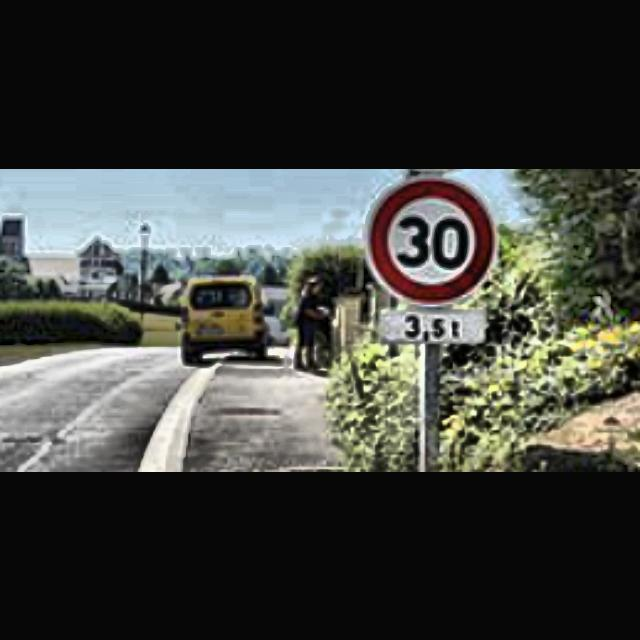speed_30: (364, 174, 498, 306)
